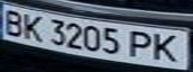0: (81, 22, 103, 54)
2: (63, 20, 84, 51)
3: (42, 17, 69, 47)
5: (100, 25, 127, 56)
B: (0, 7, 27, 37)
K: (148, 30, 187, 64), (18, 11, 45, 43)
P: (124, 28, 157, 60)
